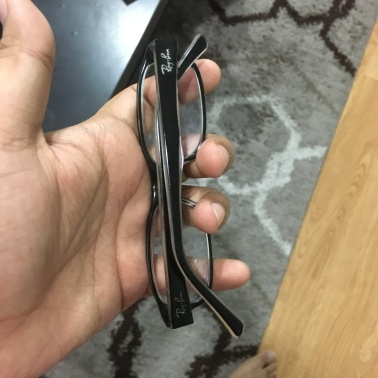glasses: (118, 48, 227, 318)
